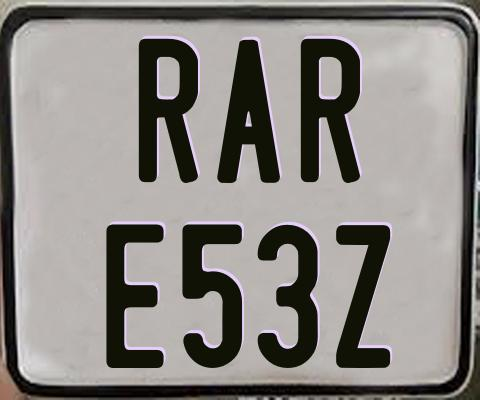3: (255, 224, 321, 367)
5: (182, 223, 242, 372)
A: (215, 40, 278, 189)
E: (103, 224, 165, 368)
R: (139, 37, 202, 186), (299, 39, 362, 183)
Z: (336, 225, 394, 368)
